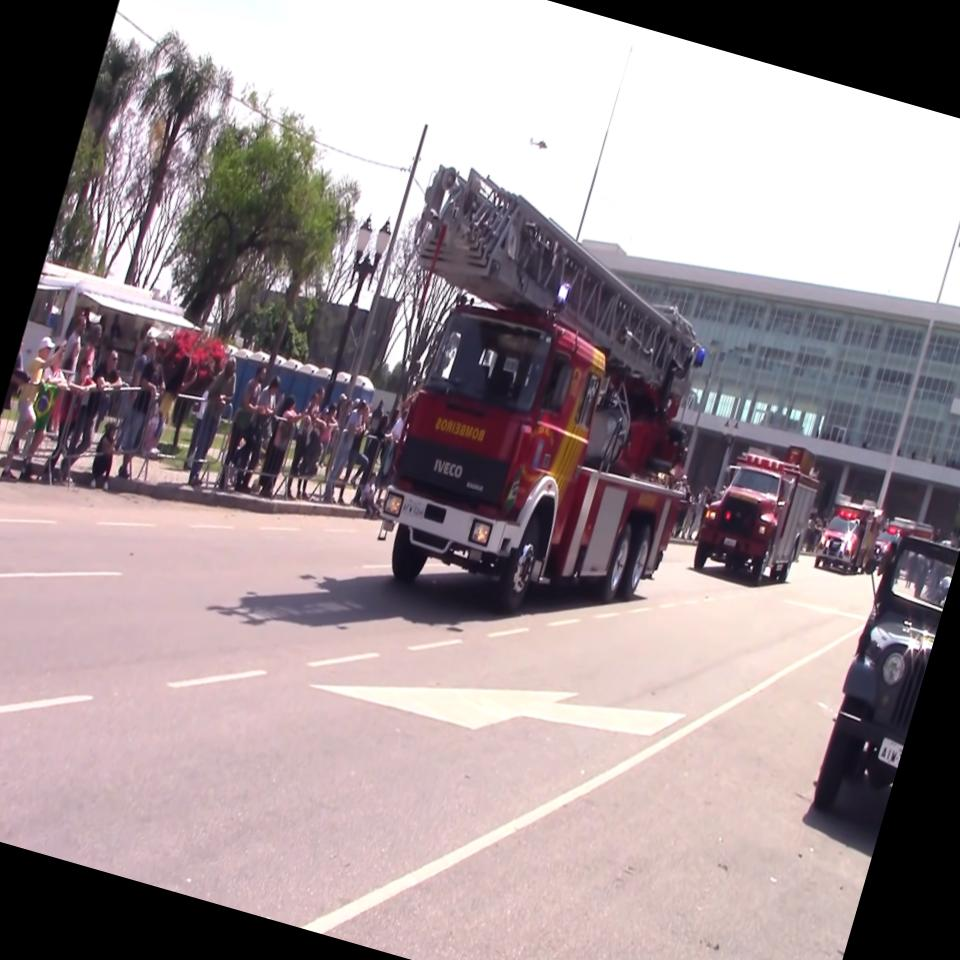viatura: (318, 153, 762, 657)
